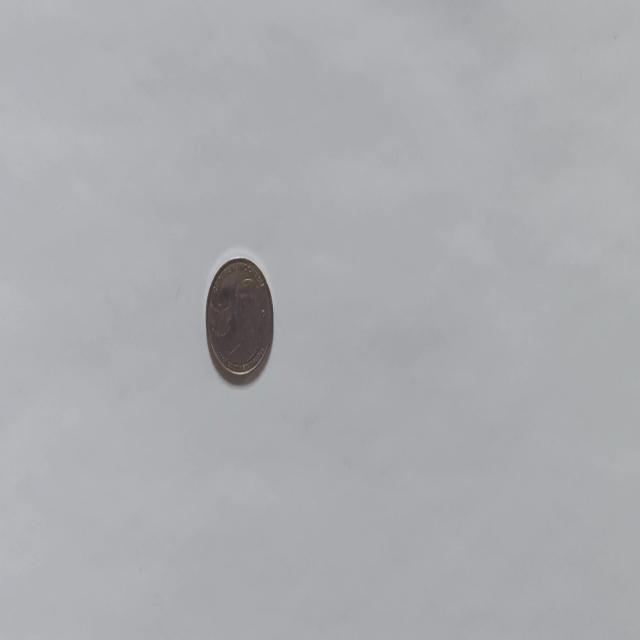seribu rupiah koin: (204, 253, 274, 385)
